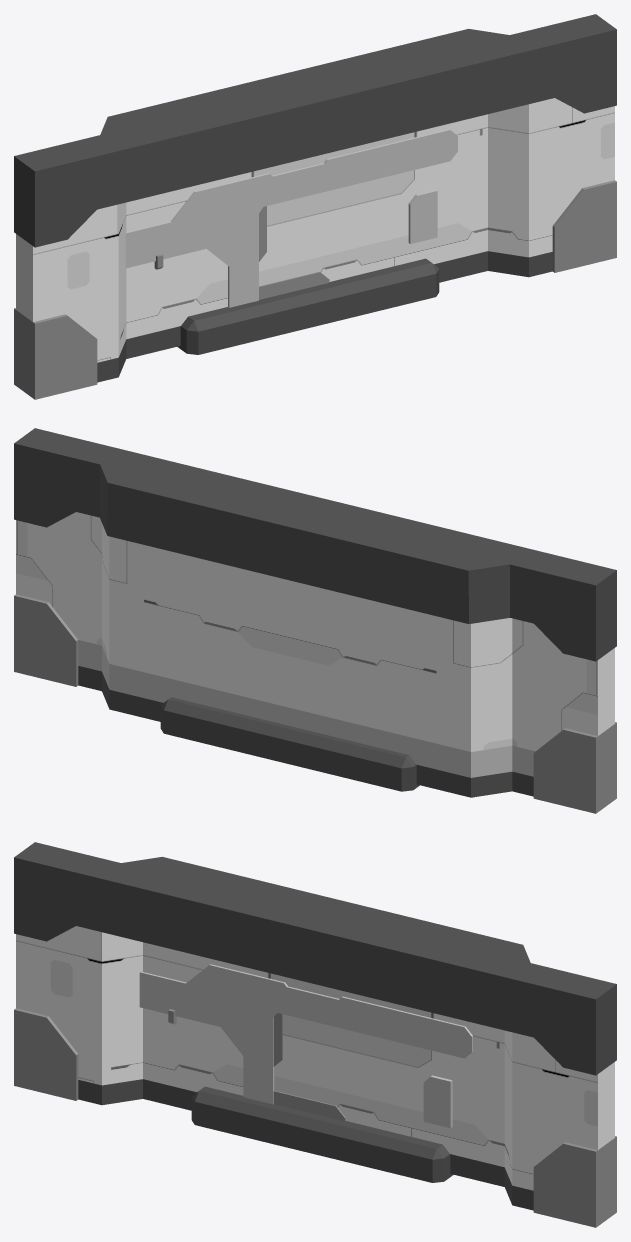
Rendered from SM_Wall_8x3_3.fbx.
3 views of the same model, one above another, from view 1: azimuth 30°, elevation 25°; view 2: azimuth 150°, elevation 25°; view 3: azimuth 330°, elevation 25° (orthographic).
Visible parts, largest first — view 1: SM_Wall_8x3_3; view 2: SM_Wall_8x3_3; view 3: SM_Wall_8x3_3.
Boxes of the visible parts, left/top/right/bottom form: SM_Wall_8x3_3: left=14, top=14, right=616, bottom=399; SM_Wall_8x3_3: left=14, top=428, right=616, bottom=813; SM_Wall_8x3_3: left=14, top=842, right=616, bottom=1227.
Bounding box in the file's own units: 800 × 305 × 103.
